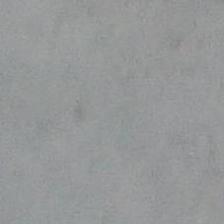Non_Crack: (18, 10, 224, 203)
